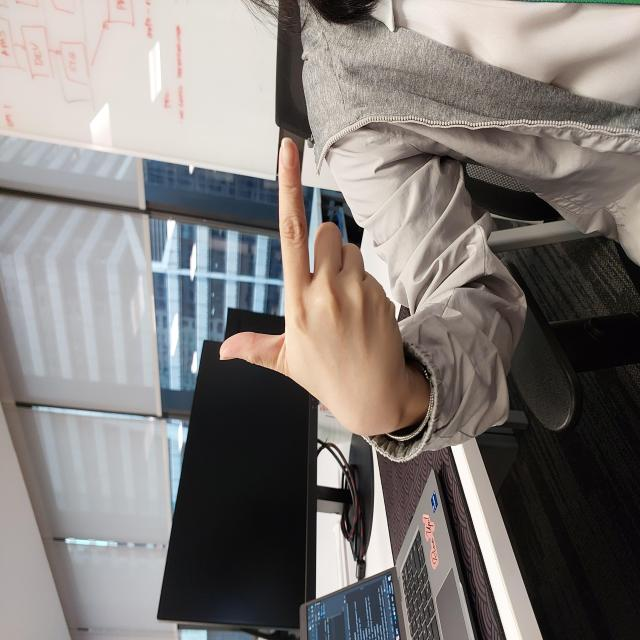G: (242, 220, 502, 405)
